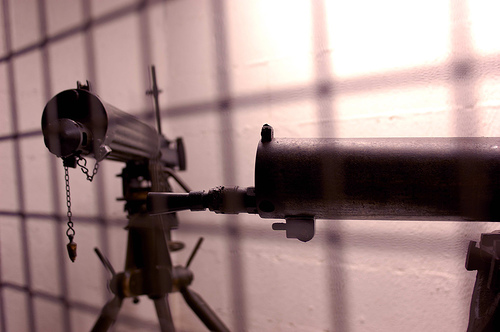rifle: (32, 82, 477, 272)
